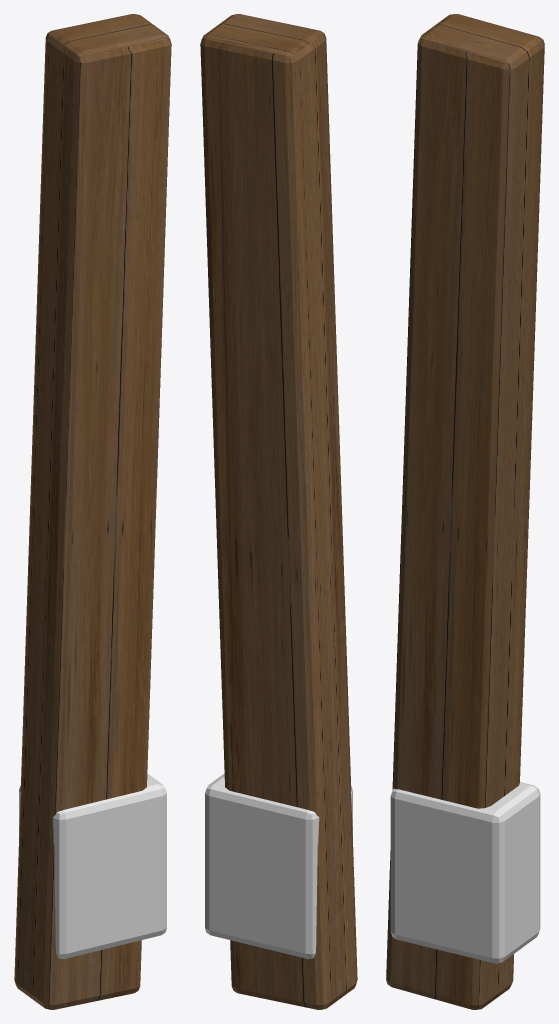
The model's file is wood_blade.glb.
3 views of the same model, side by side, from view 1: azimuth 30°, elevation 25°; view 2: azimuth 150°, elevation 25°; view 3: azimuth 330°, elevation 25° (orthographic).
Parts seen in each view (by area): view 1: SplinteredPlank, ClothGrip; view 2: SplinteredPlank, ClothGrip; view 3: SplinteredPlank, ClothGrip.
Part boxes in pixels (x1=…): SplinteredPlank: x1=14, y1=14, x2=171, y2=1009; ClothGrip: x1=19, y1=773, x2=166, y2=958; SplinteredPlank: x1=200, y1=14, x2=357, y2=1009; ClothGrip: x1=205, y1=773, x2=352, y2=958; SplinteredPlank: x1=386, y1=14, x2=544, y2=1009; ClothGrip: x1=390, y1=782, x2=540, y2=963.
Bounding box in the file's own units: 0.2383 × 1.7 × 0.14.
2 materials, 1 textured.
